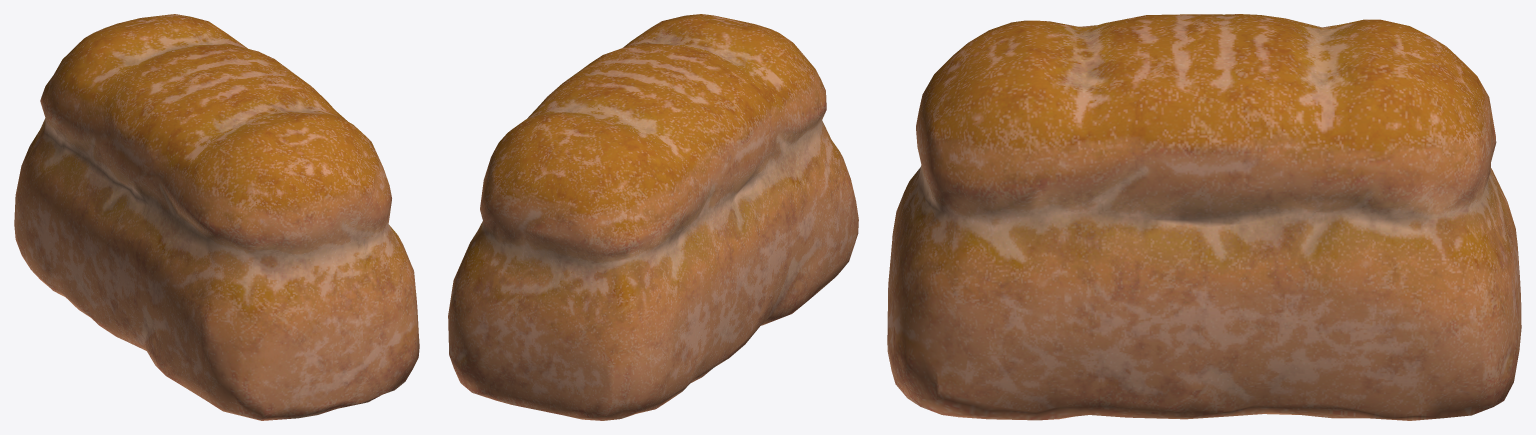
The model's file is Bread_13_bread6_a_mesh.obj.
The picture shows the model from 3 angles, left to right: view 1: azimuth 30°, elevation 25°; view 2: azimuth 150°, elevation 25°; view 3: azimuth 270°, elevation 25°; orthographic projection. The views are drawn at different scales.
Size of the model in its own units: 0.1347 by 0.1519 by 0.2616.
